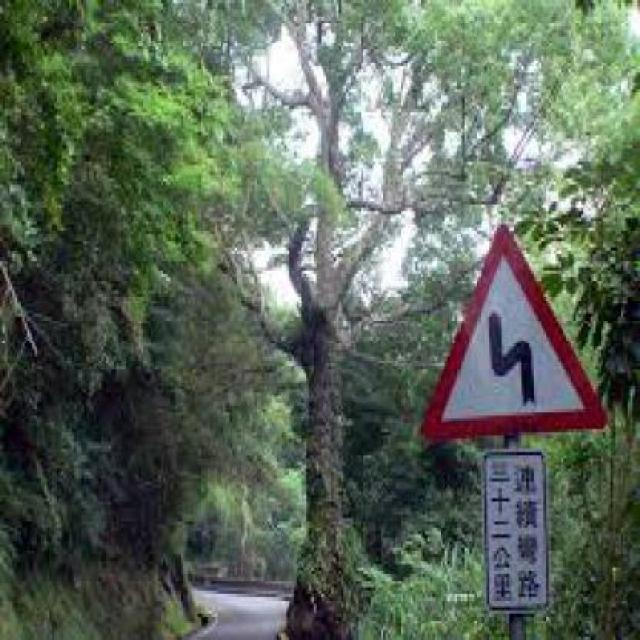warn_double_curve: (413, 221, 613, 436)
